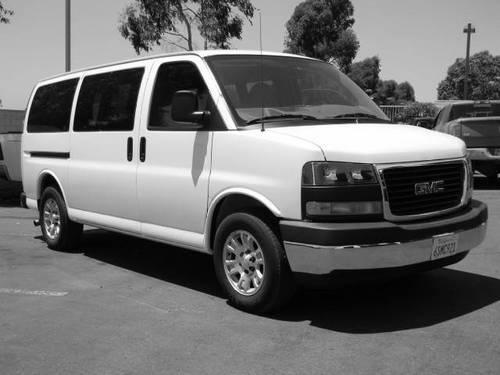car: (21, 51, 492, 316)
